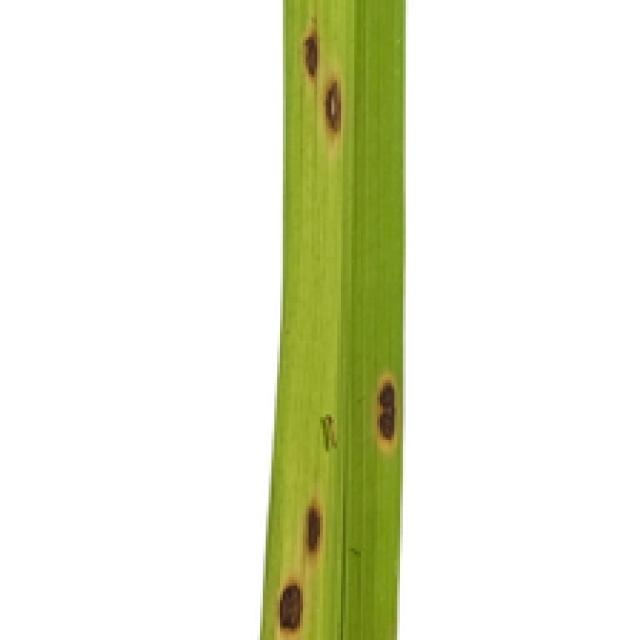Rice___Rice_Blast: (257, 0, 410, 637)
